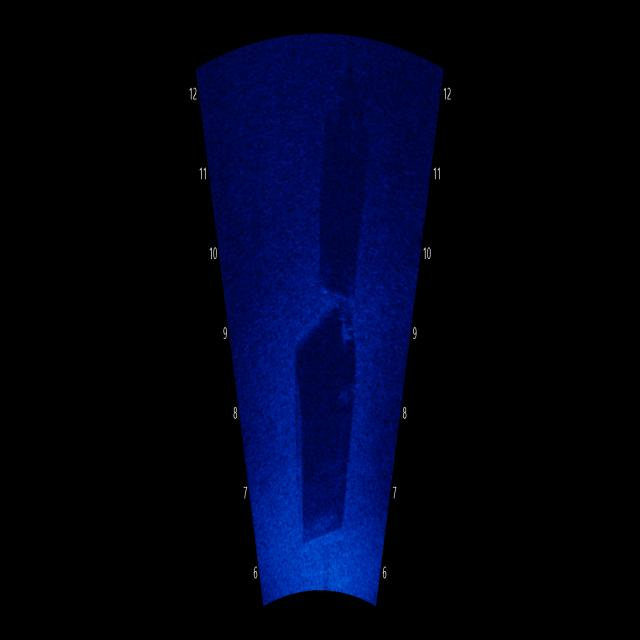square: (291, 289, 370, 564), (311, 71, 381, 300)
